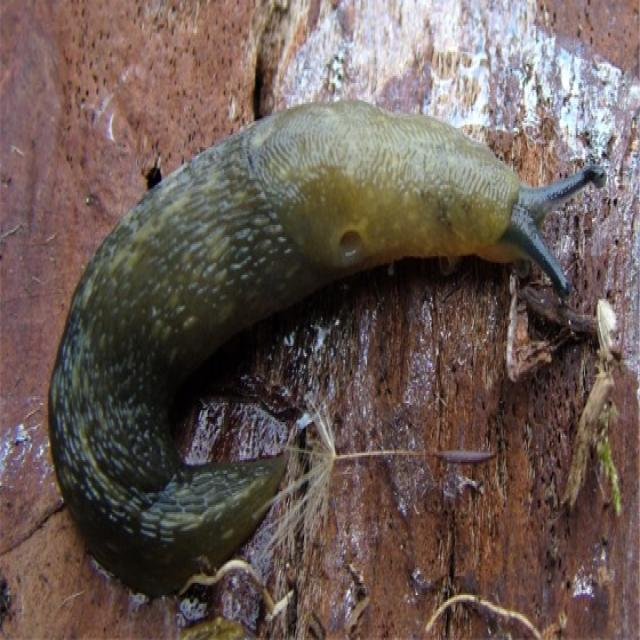slug: (43, 89, 599, 610)
